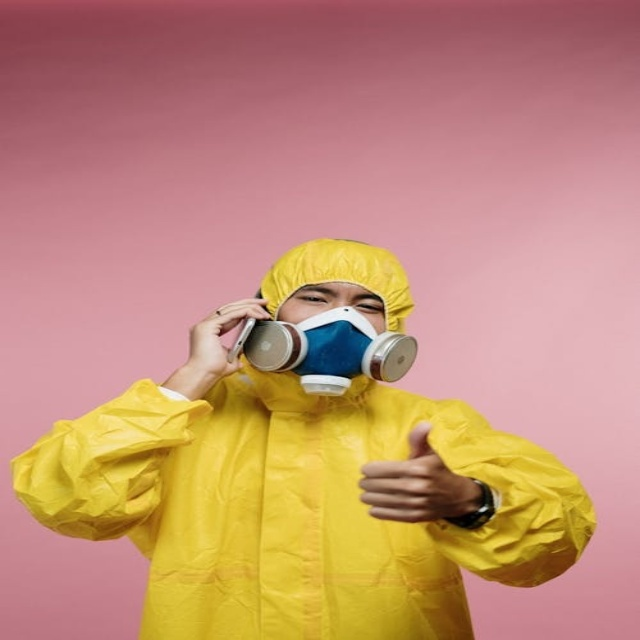Mascara: (237, 305, 418, 394)
Sin_gafas: (293, 286, 383, 316)
Sin_guantes: (354, 418, 488, 526), (177, 297, 267, 388)
